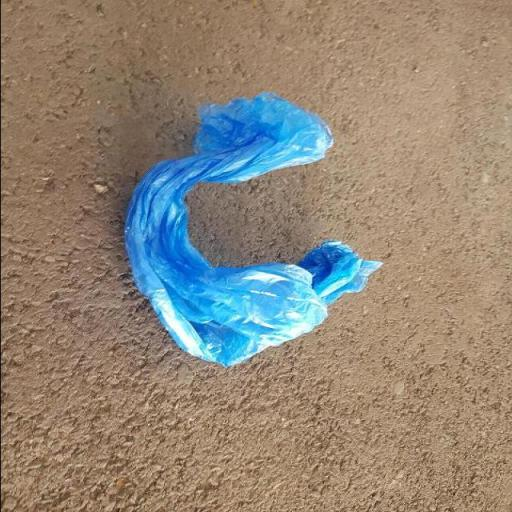plastic-bag: (120, 90, 385, 367)
